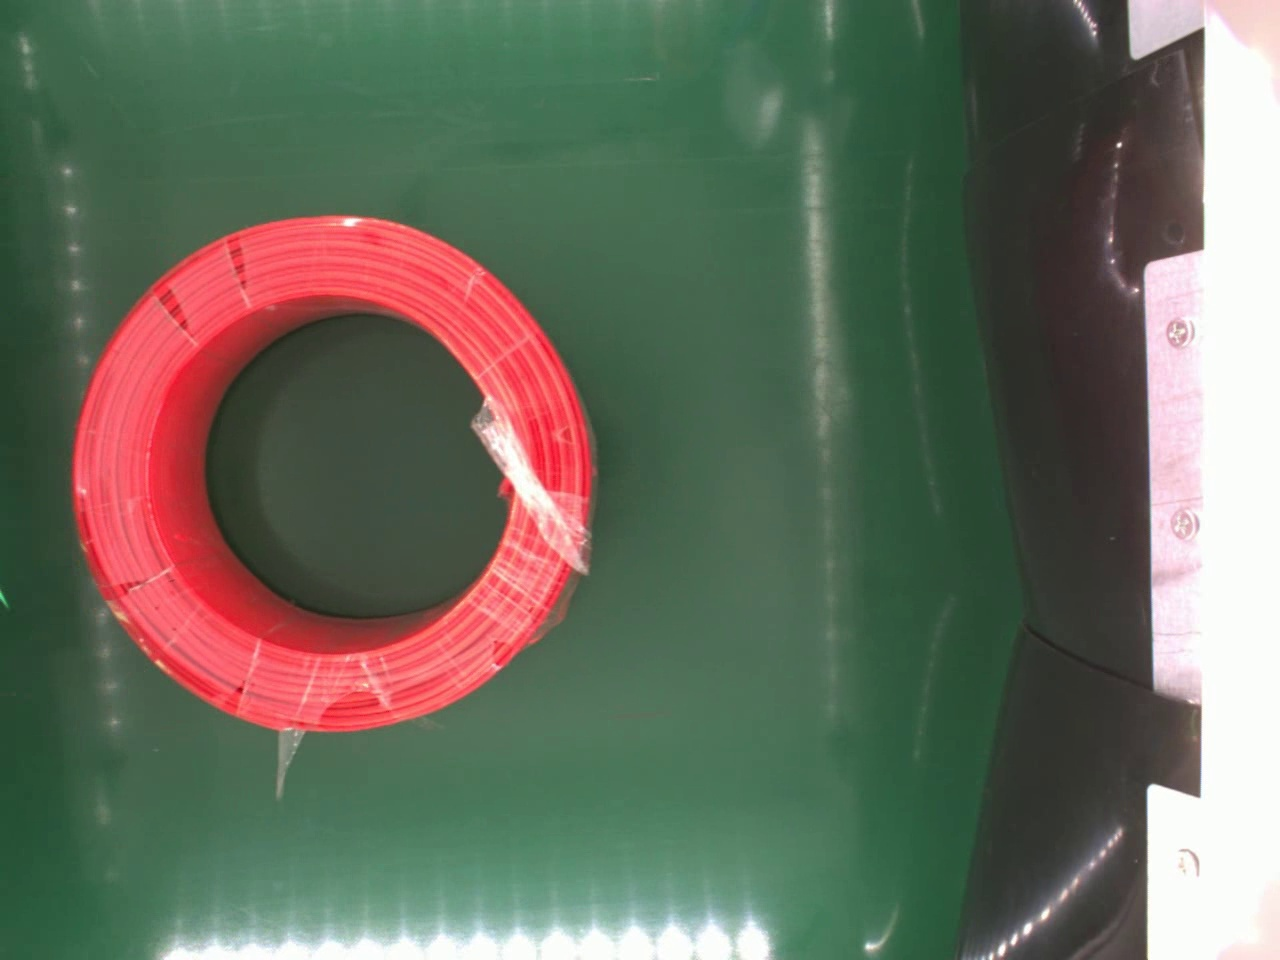red: (69, 214, 597, 735)
